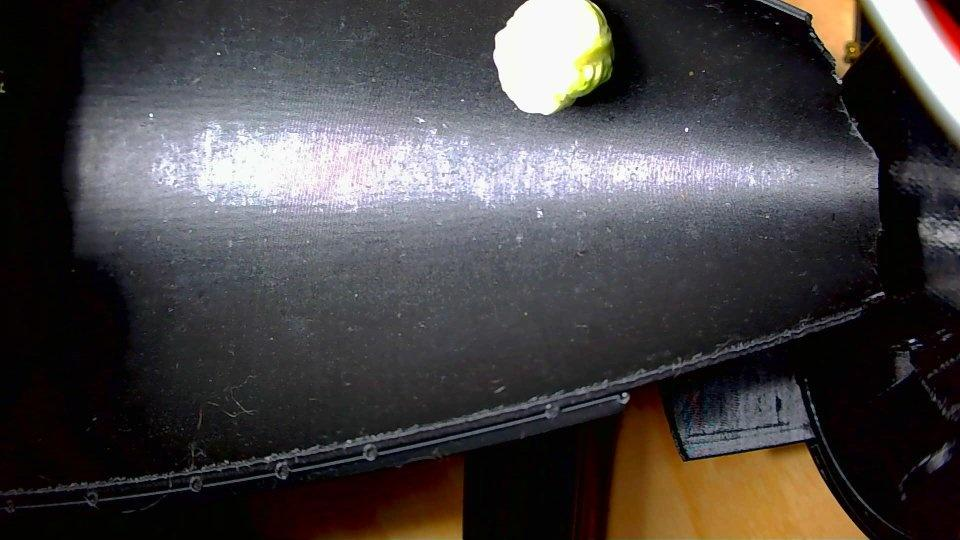berry: (493, 0, 614, 115)
